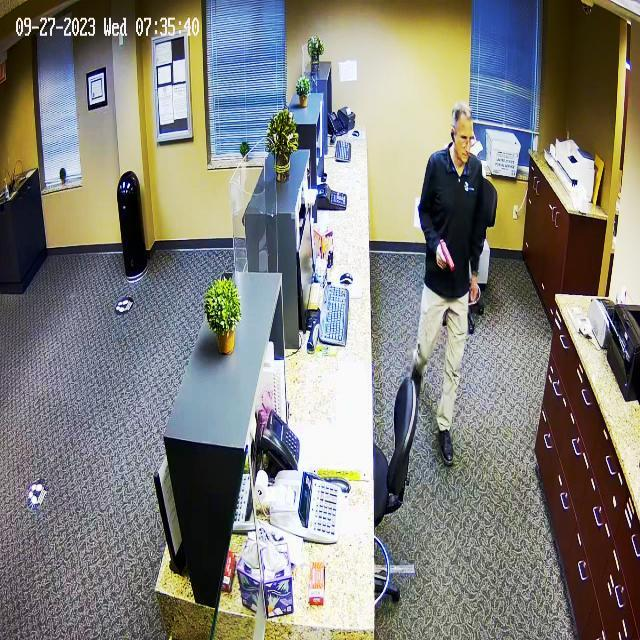Gun: (426, 232, 464, 278)
